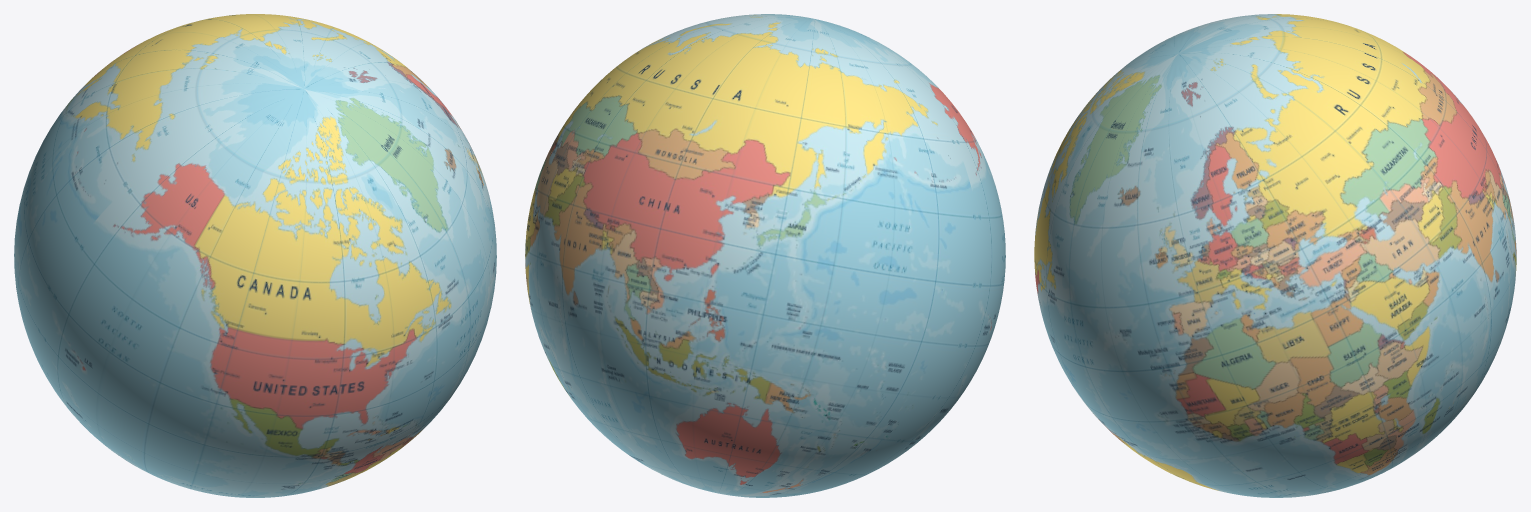
Rendered from globe-globe.fbx.
The picture shows the model from 3 angles, left to right: view 1: azimuth 30°, elevation 25°; view 2: azimuth 150°, elevation 25°; view 3: azimuth 270°, elevation 25°; orthographic projection.
Parts seen in each view (by area): view 1: Object_10; view 2: Object_10; view 3: Object_10.
Part boxes in pixels (x1,y1,x2,y2): Object_10: (14, 14, 496, 497); Object_10: (525, 14, 1005, 497); Object_10: (1034, 14, 1516, 497).
Size of the model in its own units: 306 by 308 by 306.
1 material, 1 textured.
